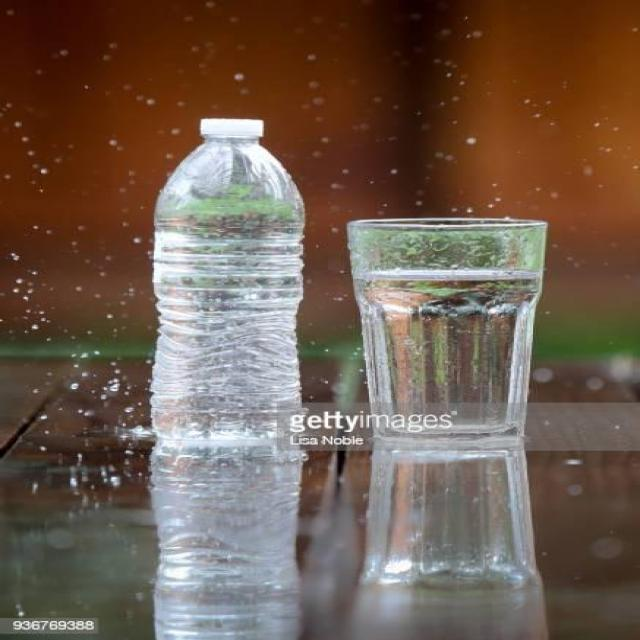bottle: (138, 107, 317, 452)
